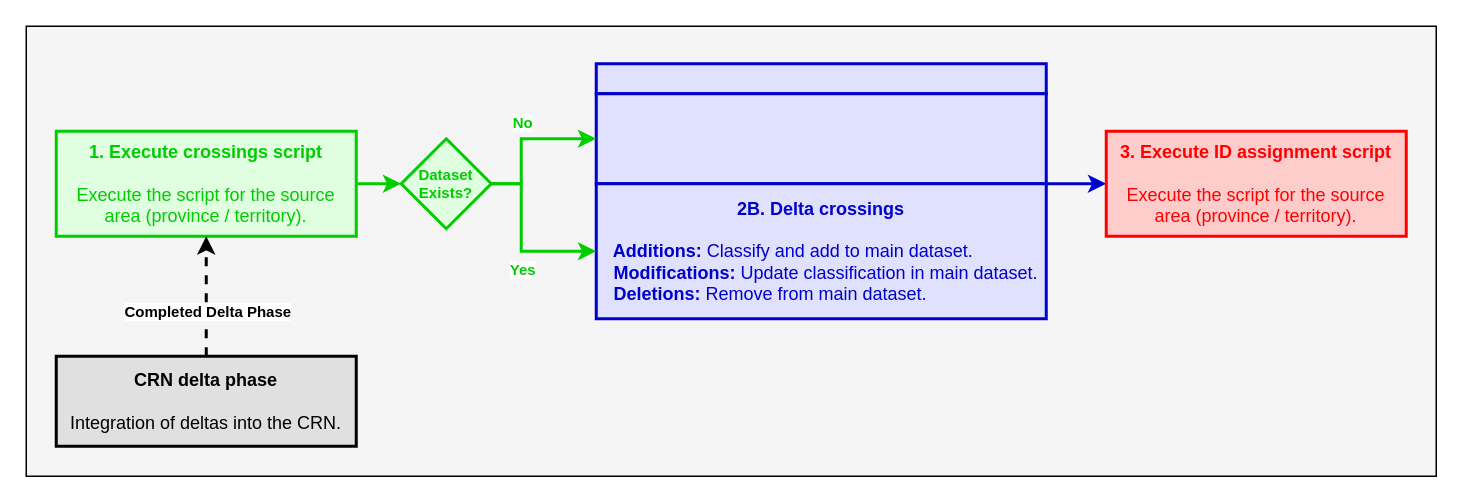
The diagram is 1463 pixels wide and 503 high, and some of its shapes have lost their labels. Here are the shapes that lost their labels. From the top down, the box of each, then its label:
(594, 62, 1047, 94): 2. Classify crossings
(594, 92, 1047, 184): 2A. All crossings Classify each crossing point as dissolvable or not.
